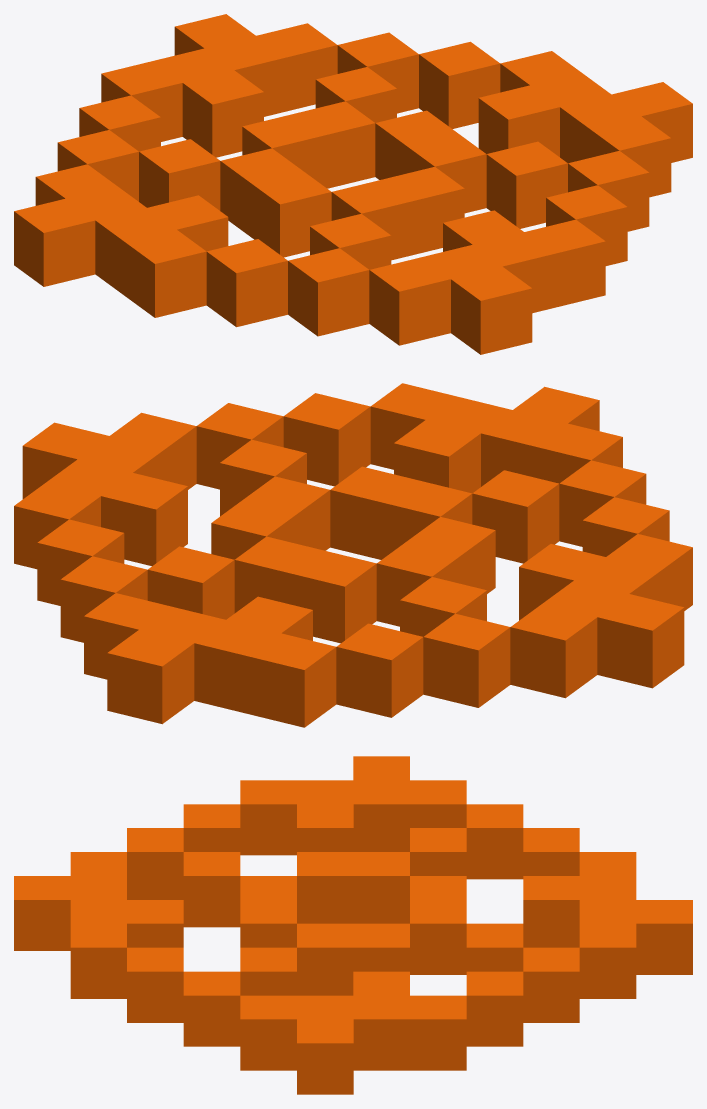
Rendered from ritual circle-1.obj.
3 views of the same model, one above another, from view 1: azimuth 30°, elevation 25°; view 2: azimuth 150°, elevation 25°; view 3: azimuth 270°, elevation 25° (orthographic). The views are drawn at different scales.
Visible parts, largest first — view 1: ritual circle-1; view 2: ritual circle-1; view 3: ritual circle-1.
Boxes of the visible parts, x1=… form: ritual circle-1: x1=14, y1=14, x2=692, y2=354; ritual circle-1: x1=14, y1=383, x2=692, y2=727; ritual circle-1: x1=14, y1=756, x2=692, y2=1094.
Size of the model in its own units: 12 by 1 by 12.
1 material, 1 textured.
